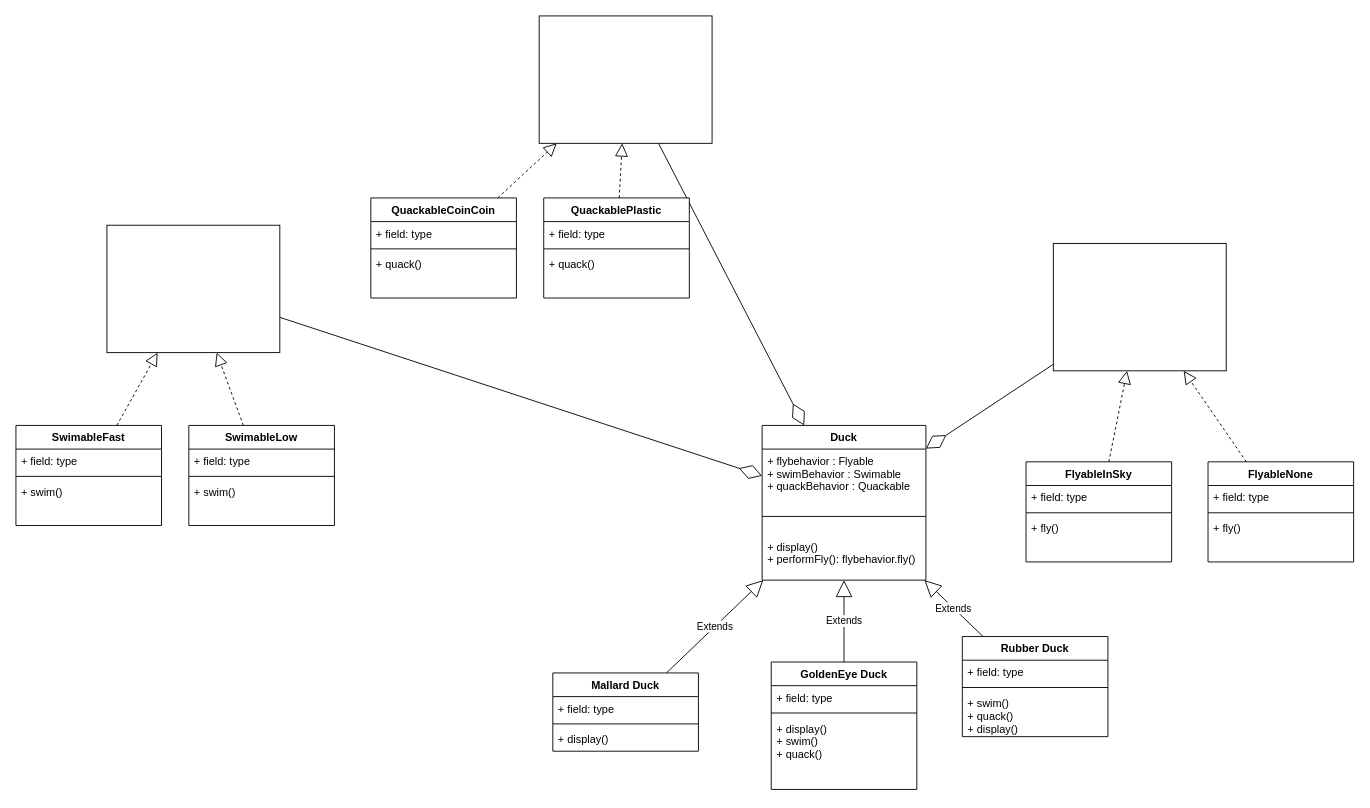
Image size: 1370x808. Some labels were removed from this diagram. The shapes that lost their labels are listed below. From the top down, each one's centre as x and y in pixels, then its label:
At point (625, 79): "<<Interface>> Quackable + quack()".
At point (193, 288): "<<Interface>> Swimable + swim()".
At point (1139, 307): "<<Interface>> Flyable + fly()".
